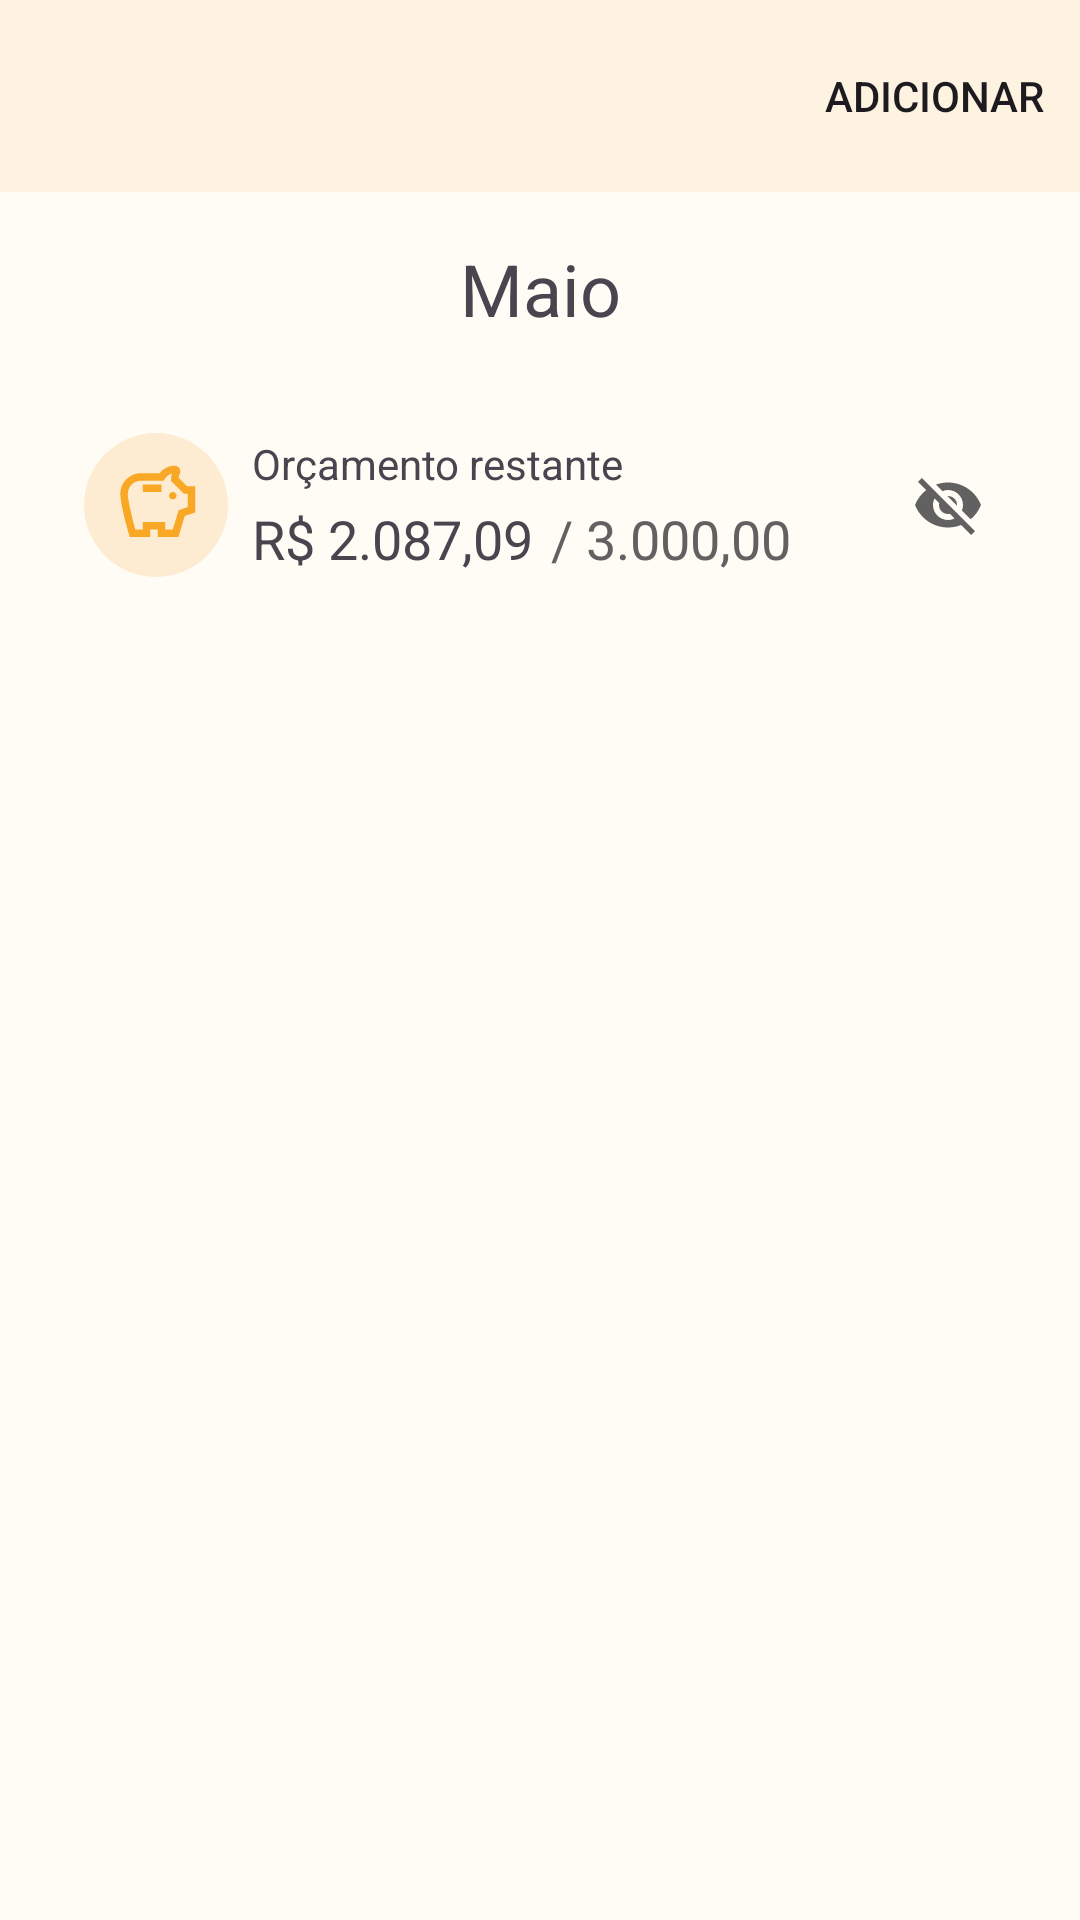

Named icons in this screenshot (1080 × 1920) and their bounding boxes, (x1, y1, x2, y2):
Esconder números: (915, 478, 981, 535)
piggybank: (84, 433, 228, 577)
